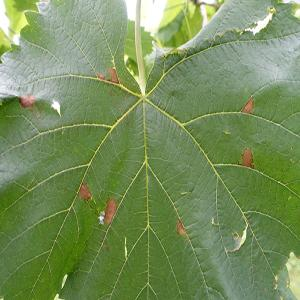Folha: (1, 0, 299, 299)
Fungo: (104, 196, 118, 225), (241, 147, 254, 169), (79, 180, 91, 202), (240, 97, 254, 114), (19, 94, 35, 108), (107, 67, 119, 83), (176, 219, 186, 238), (232, 230, 239, 240), (98, 72, 104, 80)
